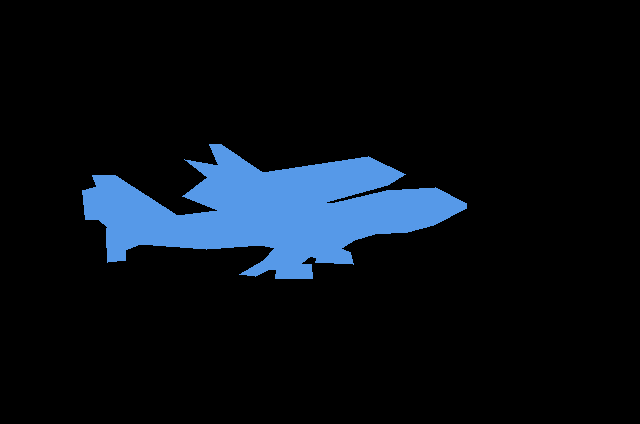Airplane: (82, 144, 467, 278)
